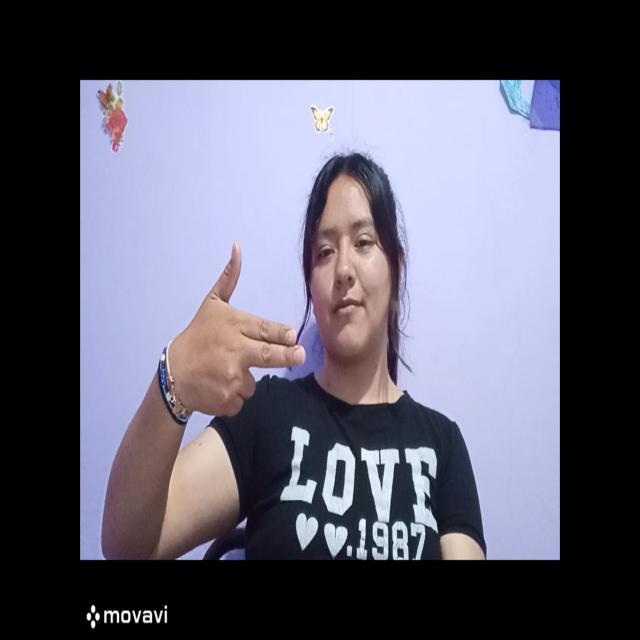H: (164, 234, 310, 428)
